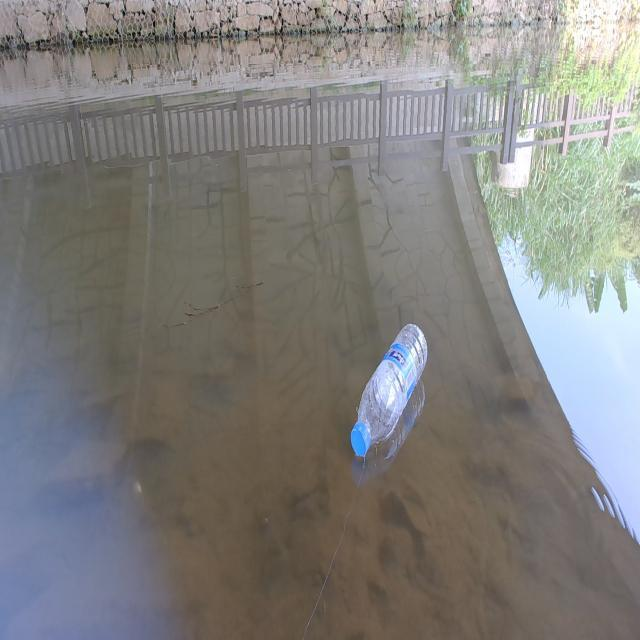garbage: (350, 321, 428, 458)
